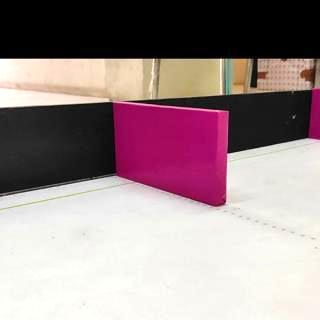xparking: (114, 110, 225, 196)
